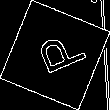P_SW: (25, 28, 85, 82)
